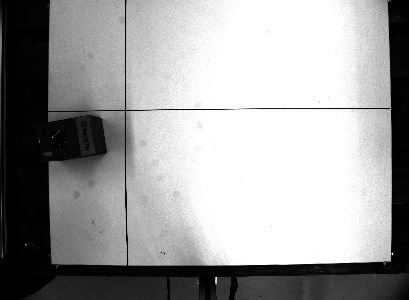b4: (33, 112, 110, 163)
